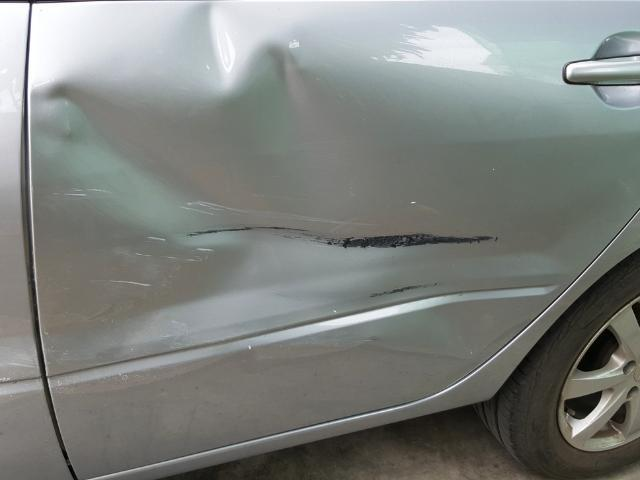Door: (30, 0, 516, 427)
